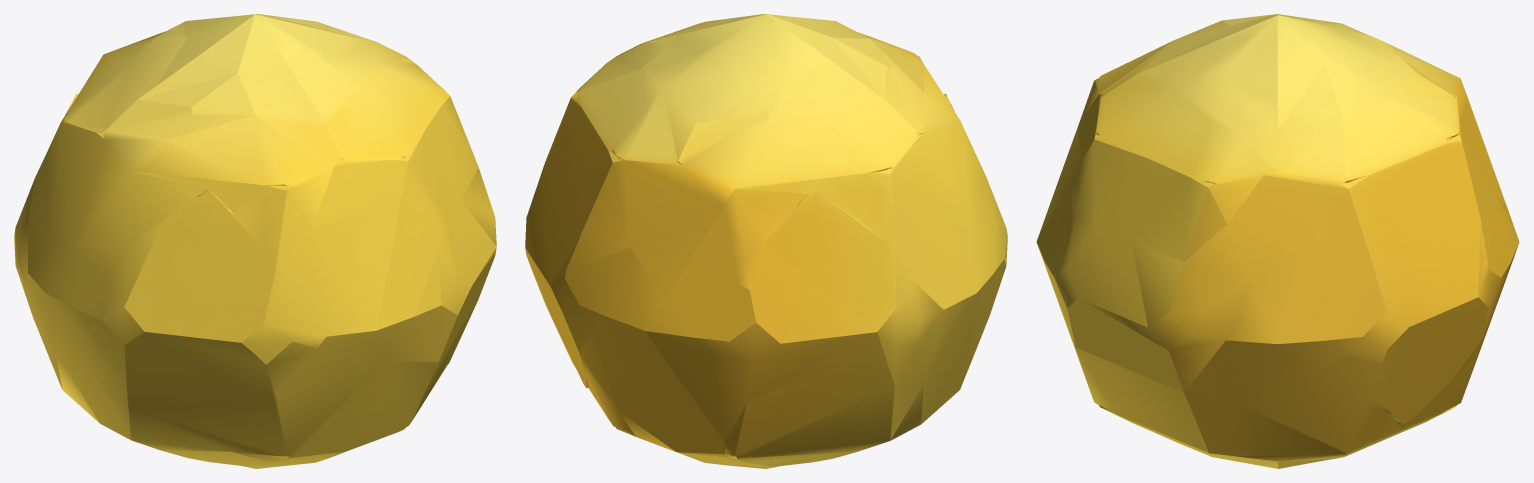
File: lozenge.glb
3 views of the same model, side by side, from view 1: azimuth 30°, elevation 25°; view 2: azimuth 150°, elevation 25°; view 3: azimuth 270°, elevation 25° (orthographic).
Bounding box in the file's own units: 1.84 × 1.9 × 1.84.
Materials: 1 (1 with a texture image).
